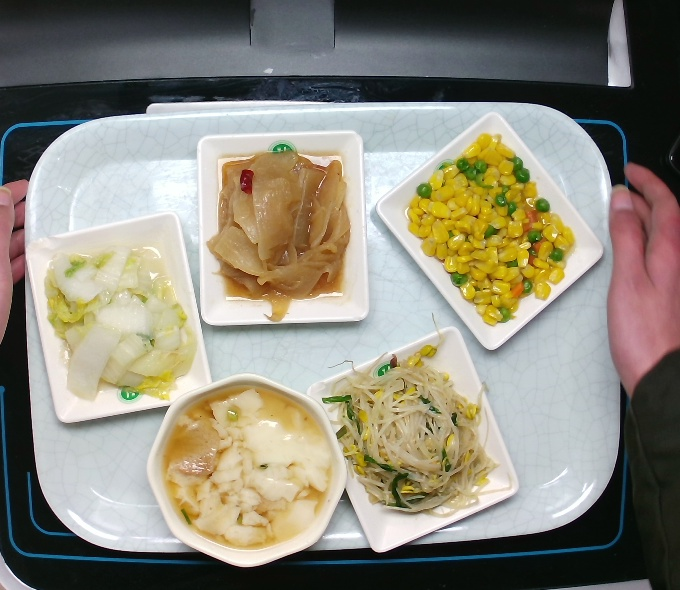wcq-DaBaiCai: (40, 245, 199, 408)
wcq-DongGua: (203, 147, 354, 324)
wcq-DouYa: (316, 309, 513, 520)
wcq-ShuiZhengDan: (157, 383, 338, 553)
wcq-TianMiTianDou: (403, 127, 582, 330)
